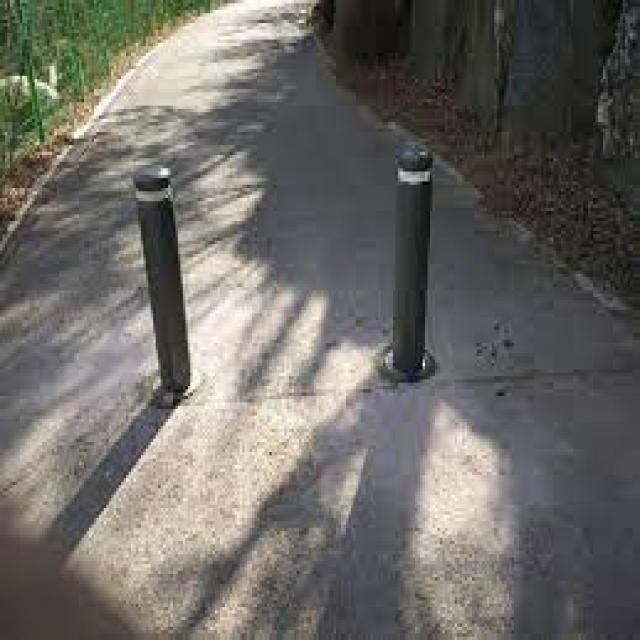bollard: (127, 150, 206, 404), (376, 126, 442, 399)
